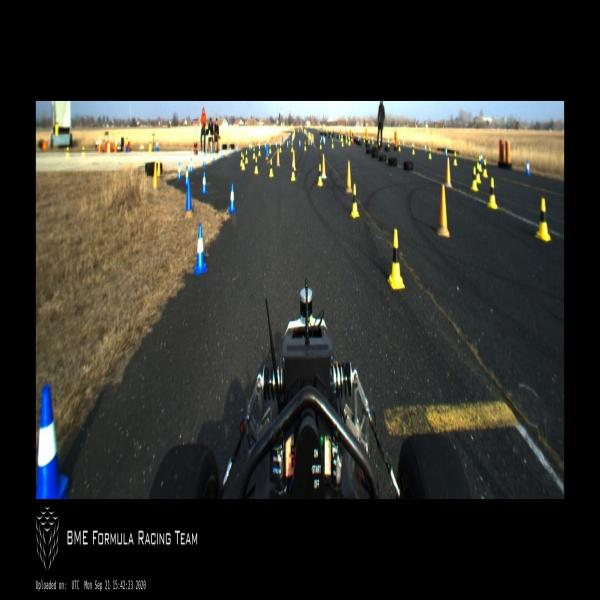blue_cone: (36, 384, 68, 499), (195, 222, 208, 276), (229, 182, 236, 212), (202, 171, 208, 193), (178, 162, 182, 180), (526, 160, 530, 176), (185, 166, 188, 184), (212, 150, 216, 162), (190, 158, 193, 172), (203, 154, 206, 166), (221, 147, 224, 159), (265, 145, 268, 157), (229, 146, 232, 156), (481, 152, 483, 165), (156, 140, 158, 151), (249, 142, 251, 152), (445, 147, 447, 157), (236, 144, 238, 153), (424, 143, 426, 152), (276, 140, 278, 148), (286, 140, 288, 148), (299, 139, 301, 147)
unknown_cone: (437, 183, 449, 237), (444, 157, 452, 188), (186, 177, 192, 210), (346, 160, 352, 193), (321, 154, 327, 178), (153, 161, 157, 187), (292, 150, 296, 170), (157, 158, 161, 178), (276, 148, 280, 166), (251, 138, 252, 148)
yellow_cone: (387, 228, 405, 290), (535, 197, 552, 242), (350, 183, 360, 219), (487, 178, 498, 209), (470, 166, 479, 192), (476, 161, 482, 184), (290, 163, 296, 182), (318, 163, 322, 186), (270, 159, 274, 178), (483, 159, 487, 178), (241, 155, 246, 170), (254, 156, 258, 174), (454, 151, 458, 166), (479, 156, 482, 172), (453, 150, 456, 166), (240, 152, 243, 167), (66, 147, 70, 158), (245, 150, 248, 164), (148, 138, 152, 148), (429, 147, 432, 159), (82, 146, 85, 158), (412, 144, 415, 155), (258, 146, 261, 156), (279, 143, 282, 153), (348, 136, 351, 146), (398, 142, 401, 152), (319, 140, 322, 149), (55, 119, 58, 128), (253, 147, 255, 159), (341, 139, 344, 147), (269, 144, 271, 154), (291, 142, 293, 152), (304, 141, 306, 151), (332, 138, 334, 148), (368, 136, 370, 144), (126, 135, 128, 143), (372, 138, 374, 144), (363, 136, 365, 142)
